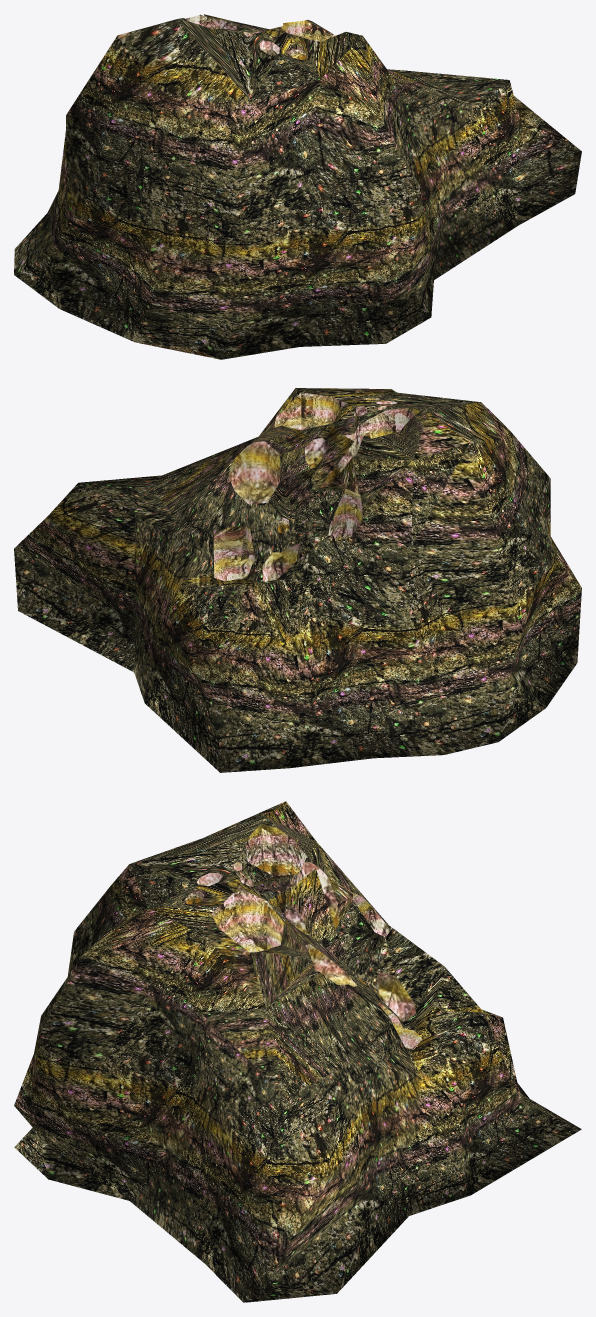
Rendered from ENVI_StalagCave.obj.
The picture shows the model from 3 angles, top to bottom: view 1: azimuth 30°, elevation 25°; view 2: azimuth 150°, elevation 25°; view 3: azimuth 270°, elevation 25°; orthographic projection. The views are drawn at different scales.
Parts seen in each view (by area): view 1: ENVI_StalagCave; view 2: ENVI_StalagCave; view 3: ENVI_StalagCave.
Part boxes in pixels (<box>): ENVI_StalagCave: <box>14,14,581,359</box>; ENVI_StalagCave: <box>14,388,581,772</box>; ENVI_StalagCave: <box>14,801,581,1302</box>.
Bounding box in the file's own units: 72.28 × 34.64 × 62.98.
3 materials, 3 textured.
